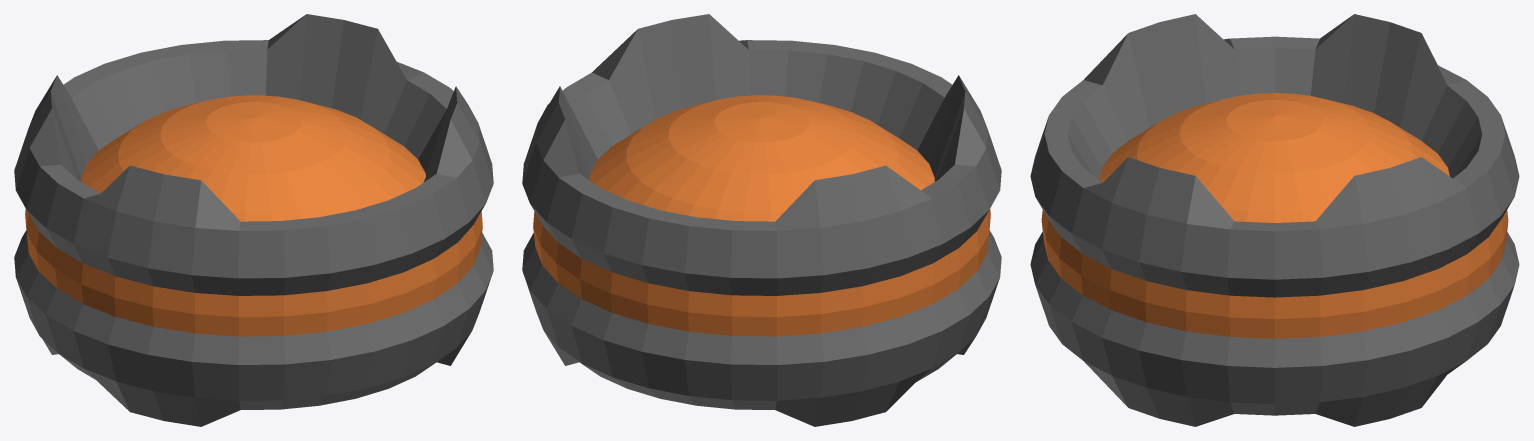
File: Hive.fbx
3 views of the same model, side by side, from view 1: azimuth 30°, elevation 25°; view 2: azimuth 150°, elevation 25°; view 3: azimuth 270°, elevation 25° (orthographic).
Parts seen in each view (by area): view 1: Sphere, Sphere.001, Sphere.002; view 2: Sphere, Sphere.001, Sphere.002; view 3: Sphere, Sphere.001, Sphere.002.
Part boxes in pixels (x1,y1,x2,y2): Sphere: [14, 14, 493, 426]; Sphere.001: [81, 95, 425, 221]; Sphere.002: [25, 209, 482, 336]; Sphere: [522, 14, 1001, 426]; Sphere.001: [589, 95, 934, 221]; Sphere.002: [533, 209, 990, 336]; Sphere: [1030, 14, 1519, 426]; Sphere.001: [1099, 93, 1449, 222]; Sphere.002: [1041, 210, 1508, 338].
Bounding box in the file's own units: 196 × 111 × 196.
